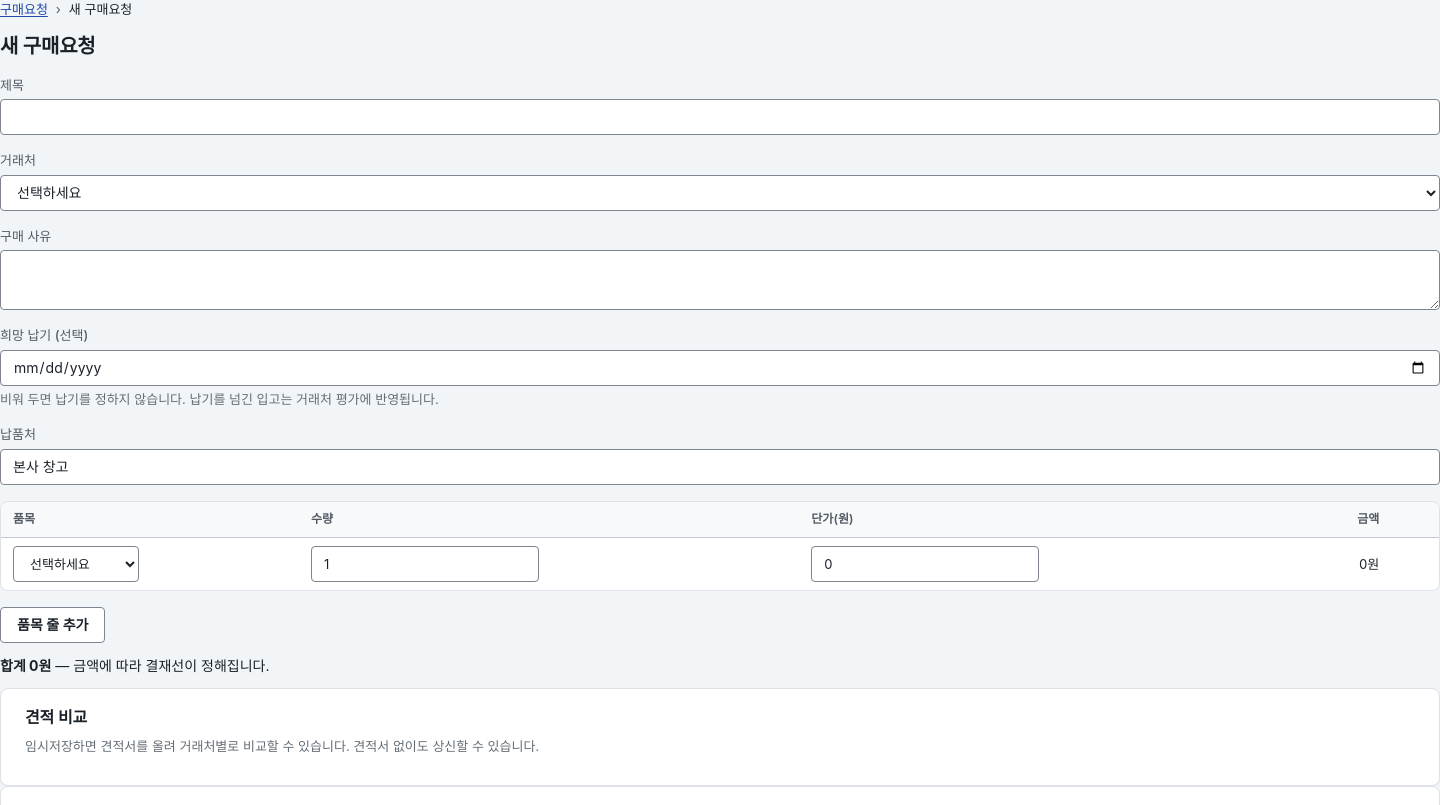
구매요청 작성 화면의 관련 규정 › 금액·품목이 바뀌면 관련 조항 원문과 출처를 보여 준다
The width and height of the screenshot is (1440, 805).
Select "복사용지 (P-1)" in the dropdown named "1번째 줄 품목" at (76, 564), box [13,546,139,582]
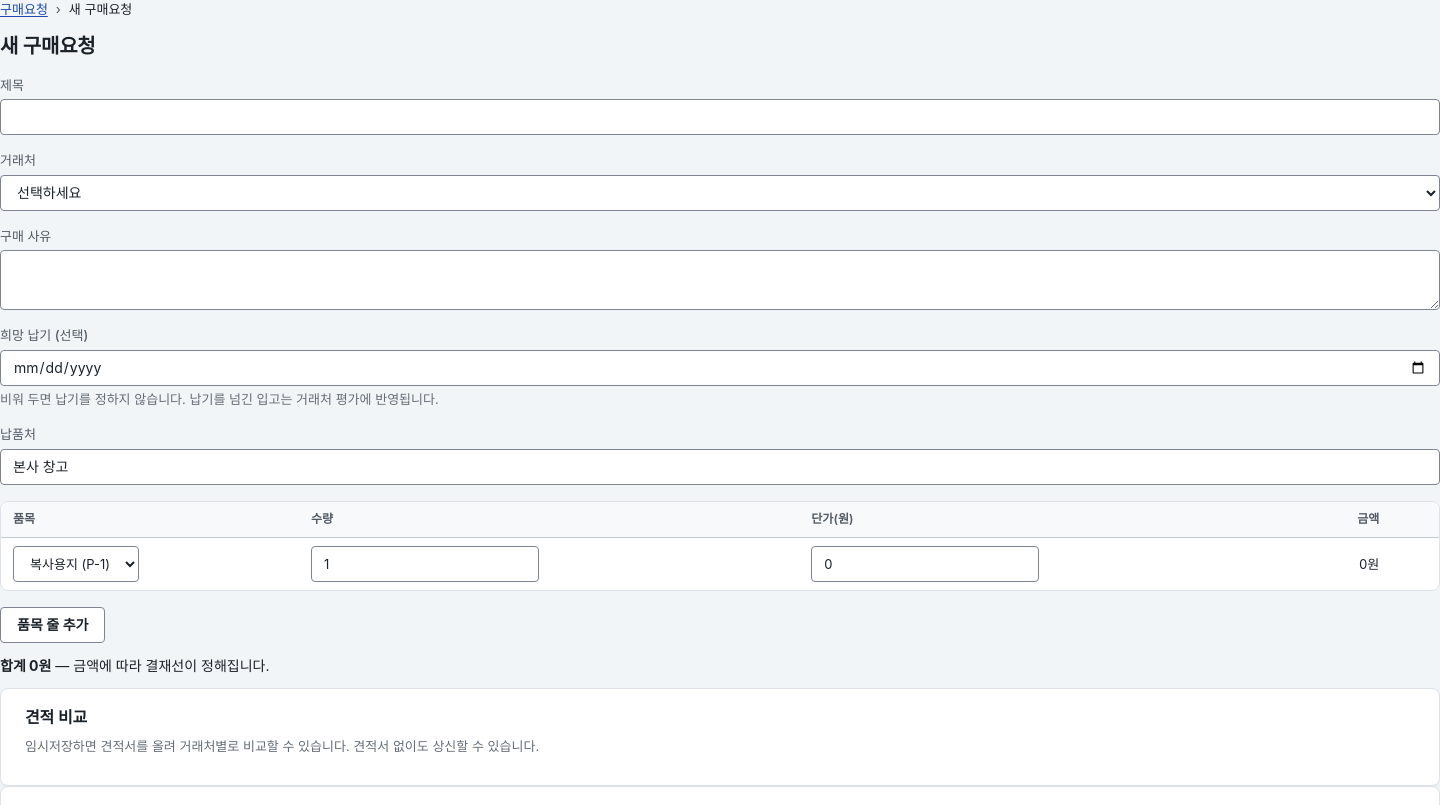
Replace the text in the field named "1번째 줄 단가" with "500000" at (925, 564), box [811,546,1039,582]
(page scrolled)
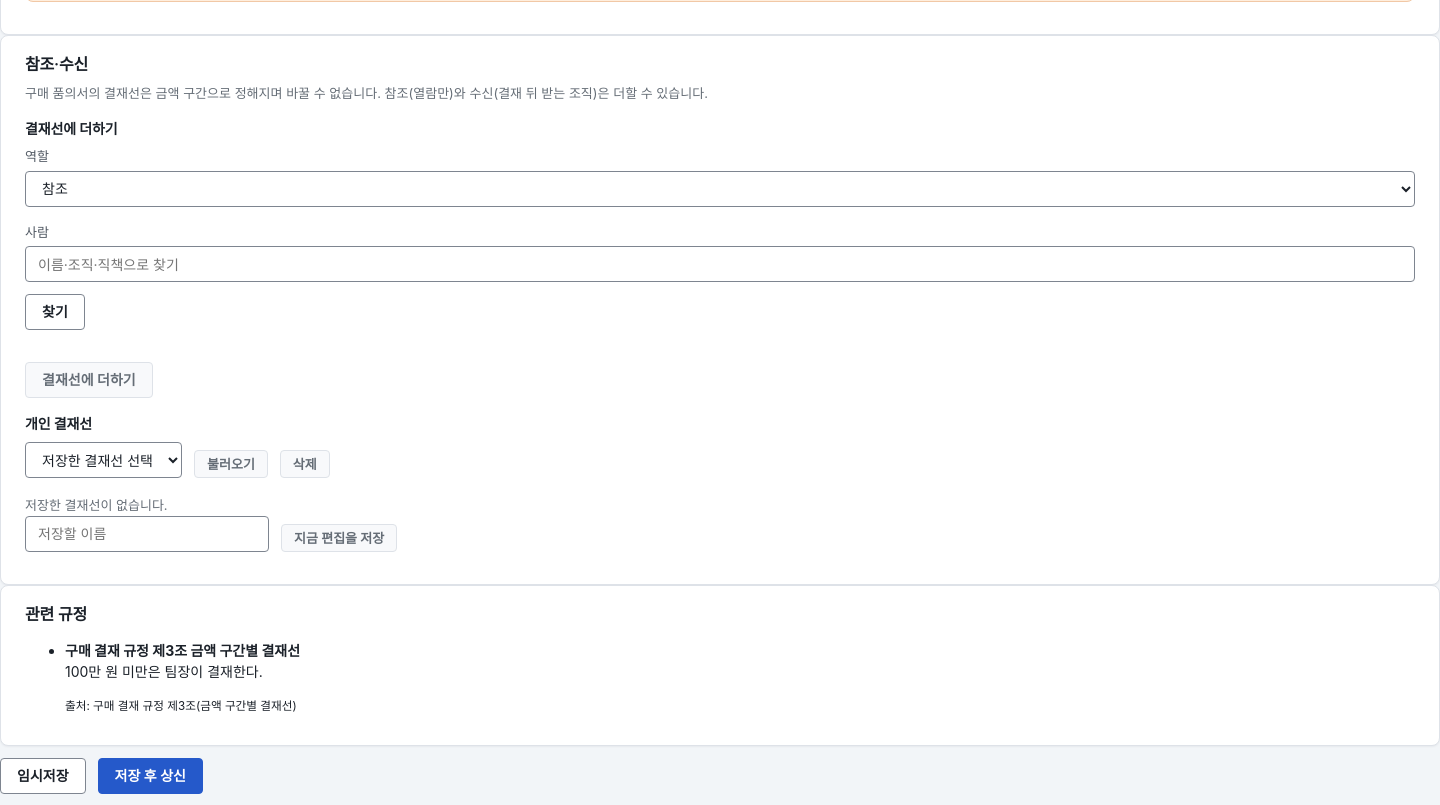
Expected: the text "100만 원 미만은 팀장이 결재한다." is shown, [65,662,263,680]
Expected: the text "출처: 구매 결재 규정 제3조(금액 구간별 결재선)" is shown, [65,698,297,712]
